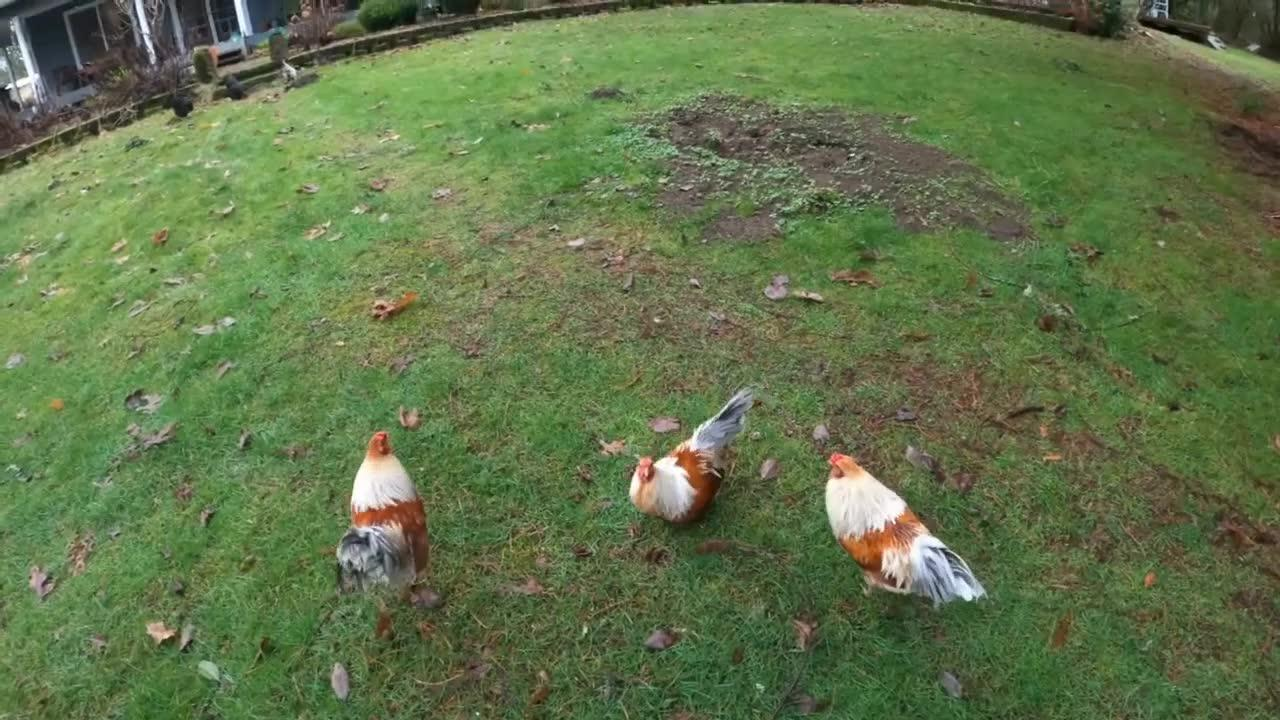AbNormal: (612, 384, 768, 528)
Normal: (806, 436, 984, 606), (316, 432, 452, 616)
